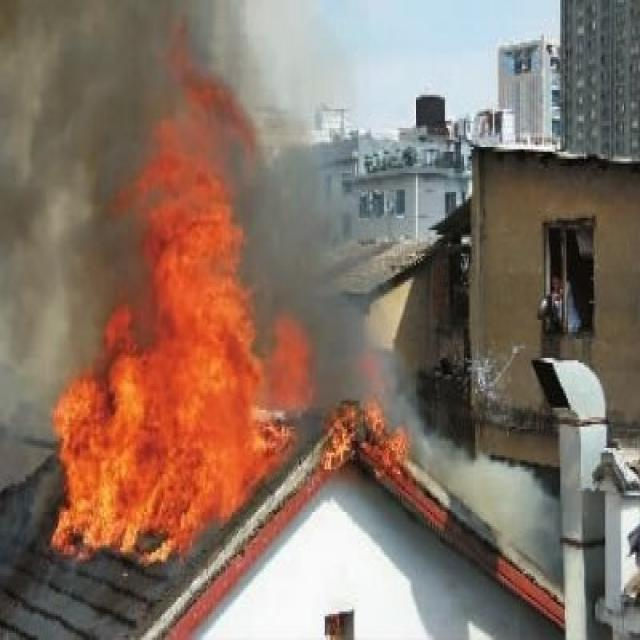Fire: (49, 19, 316, 562), (322, 398, 412, 476)
Smoke: (2, 2, 122, 379), (308, 156, 406, 395), (418, 431, 562, 567)
